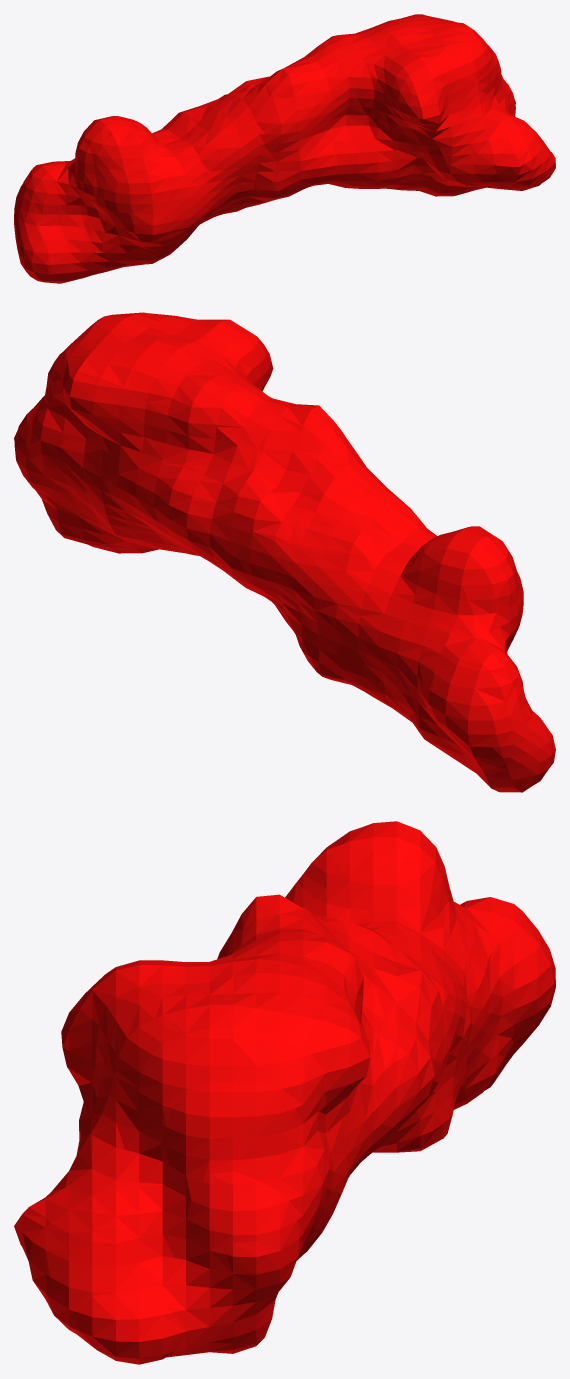
The model's file is tolQ_coarse.dae.
The picture shows the model from 3 angles, top to bottom: view 1: azimuth 30°, elevation 25°; view 2: azimuth 150°, elevation 25°; view 3: azimuth 270°, elevation 25°; orthographic projection. The views are drawn at different scales.
Parts seen in each view (by area): view 1: tolQ; view 2: tolQ; view 3: tolQ.
Boxes of the visible parts, left/top/right/bottom form: tolQ: left=14, top=14, right=555, bottom=283; tolQ: left=14, top=312, right=555, bottom=792; tolQ: left=14, top=821, right=555, bottom=1364.
Bounding box in the file's own units: 96.53 × 44.37 × 52.34.
